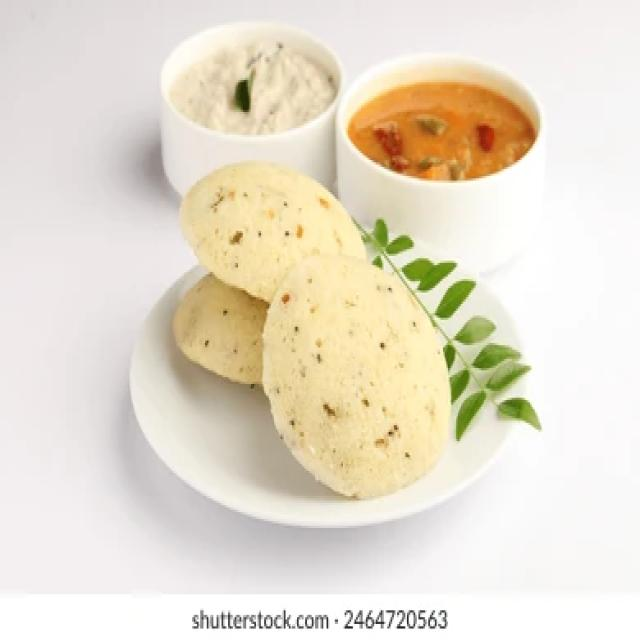IDLI: (262, 261, 451, 491), (180, 160, 367, 305), (169, 274, 267, 388)
